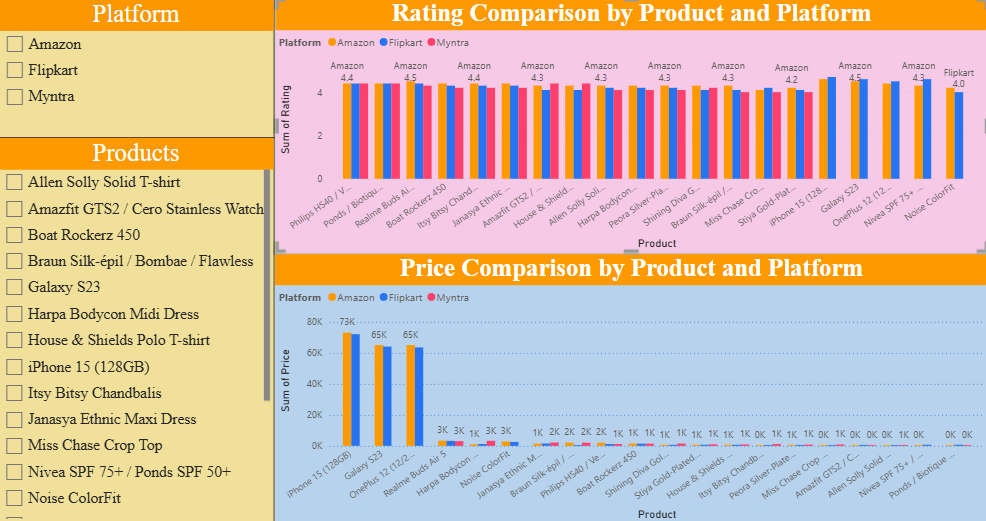

The page's visual inventory and layout, read from the dashboard file:
{"tool":"powerbi","page":{"name":"Page 1","canvas":[1280,720],"ordinal":0},"visuals":[{"type":"clusteredColumnChart","title":"Price Comparison by Product and Platform","fields":{"Category":["product_comparison_long.Product"],"Y":["Sum(product_comparison_long.Price)"],"Series":["product_comparison_long.Platform"]},"box":[359.5,370.5,920.8,349.9],"z":0},{"type":"clusteredColumnChart","title":"Rating Comparison by Product and Platform","fields":{"Series":["product_comparison_long.Platform"],"Category":["product_comparison_long.Product"],"Y":["Sum(product_comparison_long.Rating)"]},"box":[359.5,41.2,920.8,329.3],"z":1000},{"type":"slicer","title":"Platform","fields":{"Values":["product_comparison_long.Platform"]},"box":[0,41.2,359.5,179.8],"z":2000},{"type":"slicer","title":"Products","fields":{"Values":["product_comparison_long.Product"]},"box":[0,220.9,359.5,499.5],"z":3000}]}

Visuals, with their boxes on the page's 1280x720 design canvas (x1, y1, x2, y2). These are canvas units, not pixel positions in the 986x521 screenshot, which may show the page scaled, cropped or inside an application window:
"Price Comparison by Product and Platform" clusteredColumnChart: left=360, top=370, right=1280, bottom=720
"Rating Comparison by Product and Platform" clusteredColumnChart: left=360, top=41, right=1280, bottom=370
"Platform" slicer: left=0, top=41, right=360, bottom=221
"Products" slicer: left=0, top=221, right=360, bottom=720
